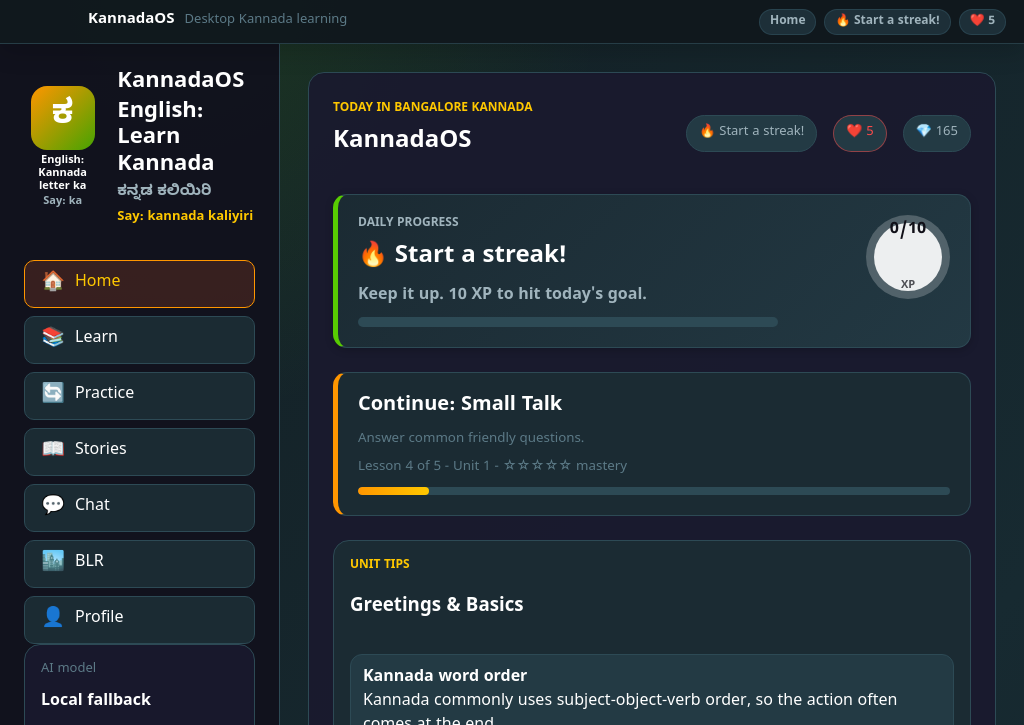
it: KannadaOS desktop app › shows unit lesson progress and crown ratings in the Learn tab
Click the button "📚 Learn" at (140, 340), box [24, 316, 255, 364]
(page scrolled)
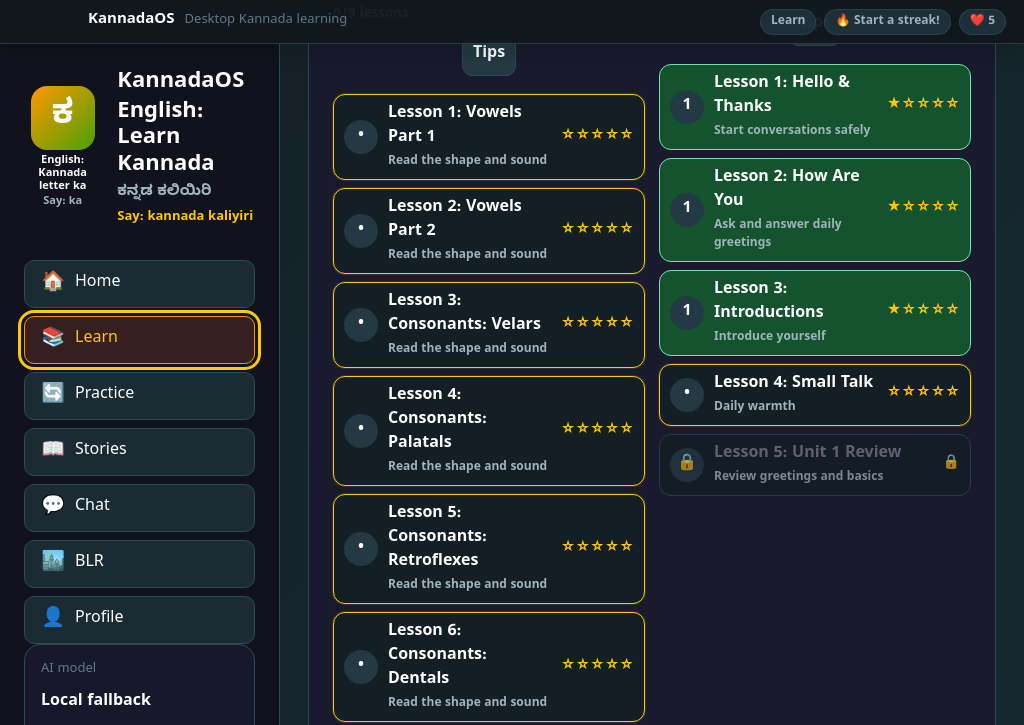
Result: the button named "Hello & Thanks, 1 crowns, ★☆☆☆☆" is shown at [659, 64, 971, 150]
Result: the button named "Small Talk, 0 crowns, ☆☆☆☆☆" is shown at [659, 364, 971, 426]
Result: the text "Lesson 1: Hello & Thanks" is shown at [714, 74, 850, 120]
